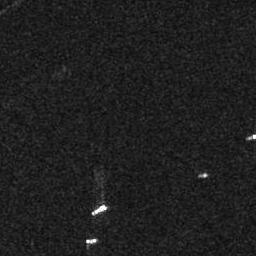ship: (91, 205, 109, 215), (84, 237, 99, 243), (246, 132, 256, 141)
